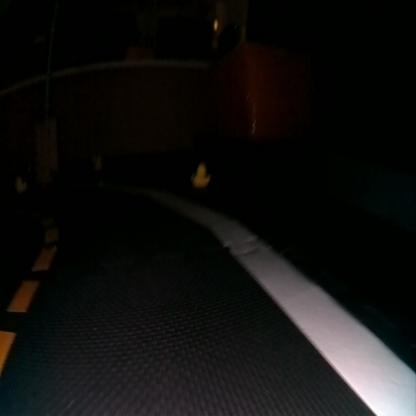Duckie: (192, 163, 209, 186), (18, 176, 26, 190), (94, 156, 100, 168)
